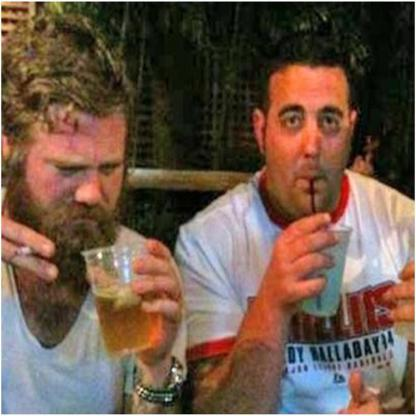face: (24, 88, 126, 250), (264, 59, 350, 215)
